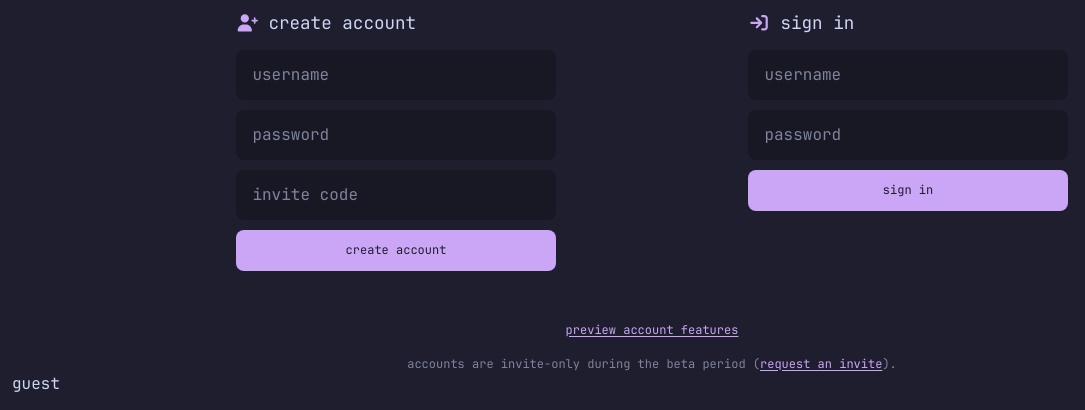
Test: account access › registers with the shared invite code
Expected: the button "sign in" is enabled, [748,170,1068,211]
Type "speedcuber" into the 1st field labelled "username" at (396, 75), box [236,50,556,100]
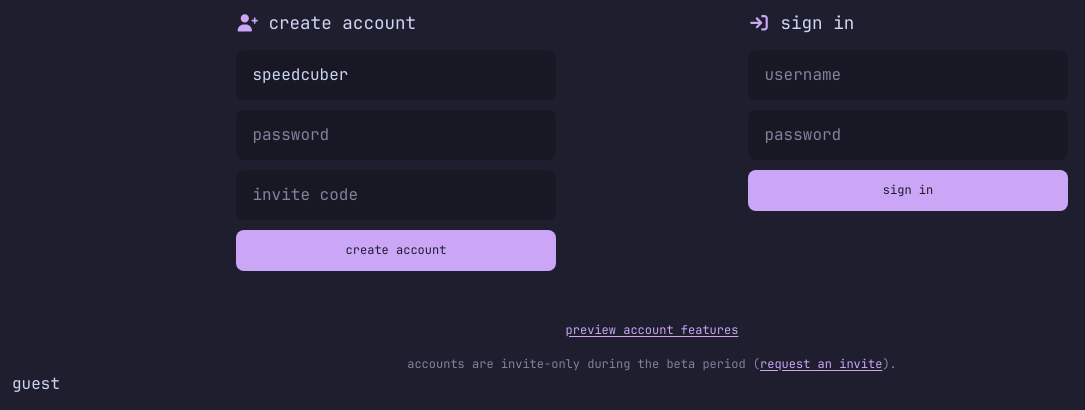
Type "test-password" into the 1st password field labelled "password" at (396, 135), box [236,110,556,160]
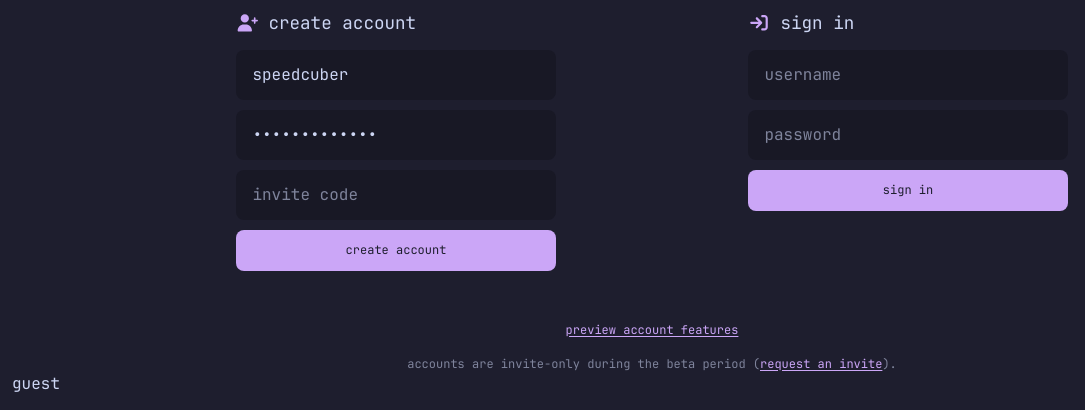
Type "shared-code" into the password field labelled "invite code" at (396, 195), box [236,170,556,220]
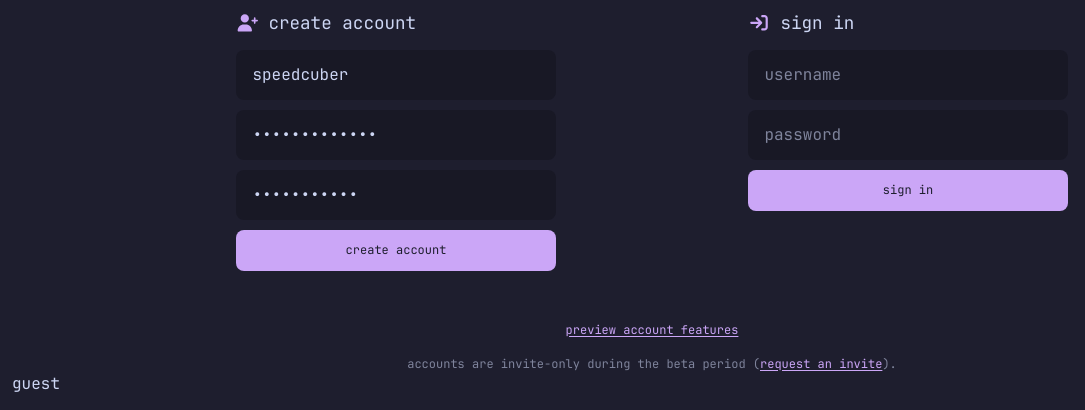
Click the button "create account" at (396, 250), box [236,230,556,270]
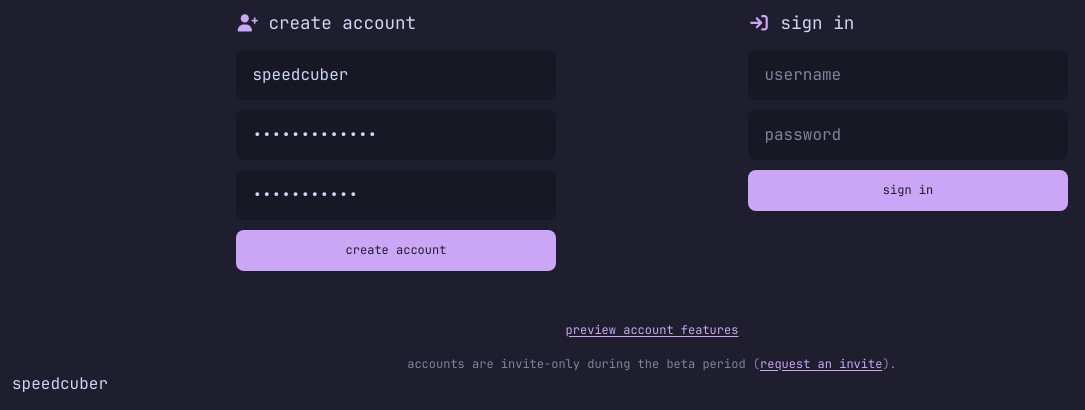
Now the text named "Current account" reads "speedcuber", box [12,373,108,394]
